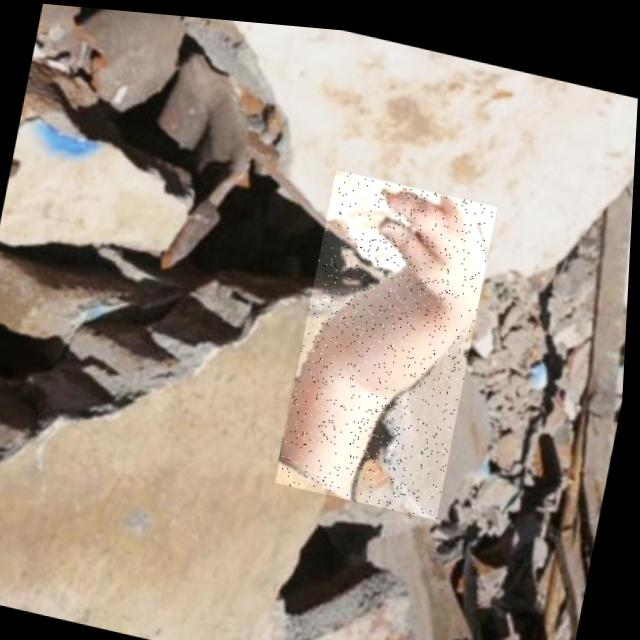Person in Rubble: (278, 160, 499, 514)
